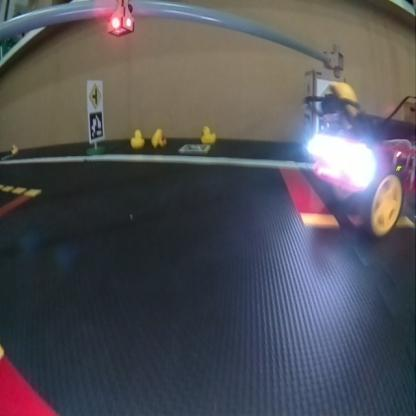Duckie: (130, 128, 143, 146), (201, 125, 214, 142), (151, 131, 166, 145), (12, 145, 17, 153)
Duckiebot: (304, 103, 414, 238)
Intersection sign: (88, 83, 102, 107)
QR code: (89, 112, 102, 141), (180, 143, 208, 153)
Traffic light: (106, 0, 132, 37)
